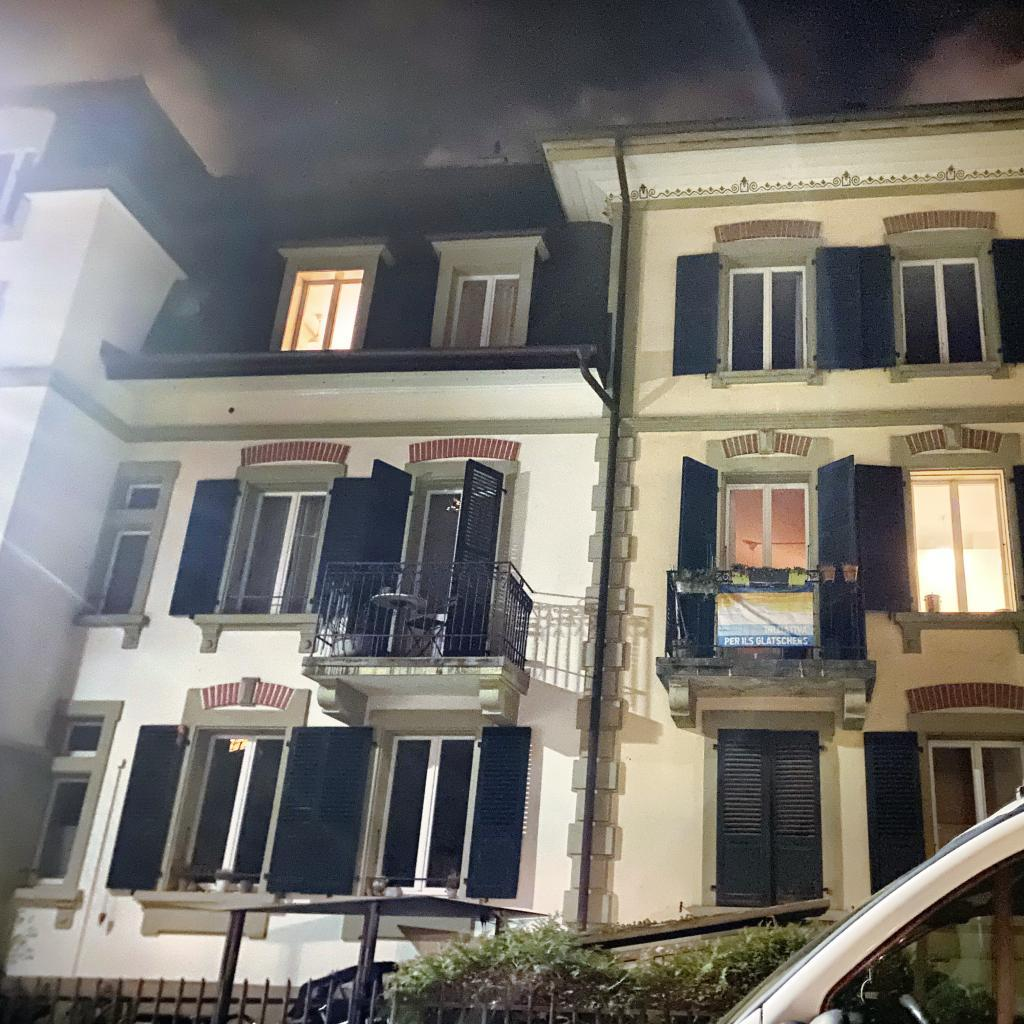balcony-fence: (301, 560, 534, 682), (656, 569, 876, 677)
car: (715, 784, 1024, 1024)
facade: (0, 73, 1024, 1024)
fence: (0, 974, 757, 1024)
non-building-infrastructure: (209, 895, 551, 1024)
vegetation: (373, 909, 834, 1024), (669, 561, 811, 637)
window: (856, 463, 1024, 612), (710, 728, 829, 909), (370, 735, 482, 899), (177, 735, 286, 894), (231, 491, 327, 614), (928, 738, 1024, 851), (898, 256, 988, 365), (724, 481, 812, 584), (727, 265, 809, 372), (412, 489, 463, 624), (30, 778, 89, 884), (290, 278, 362, 351), (451, 273, 519, 345), (96, 531, 150, 614), (0, 145, 39, 226), (61, 721, 104, 756), (124, 484, 162, 509)
